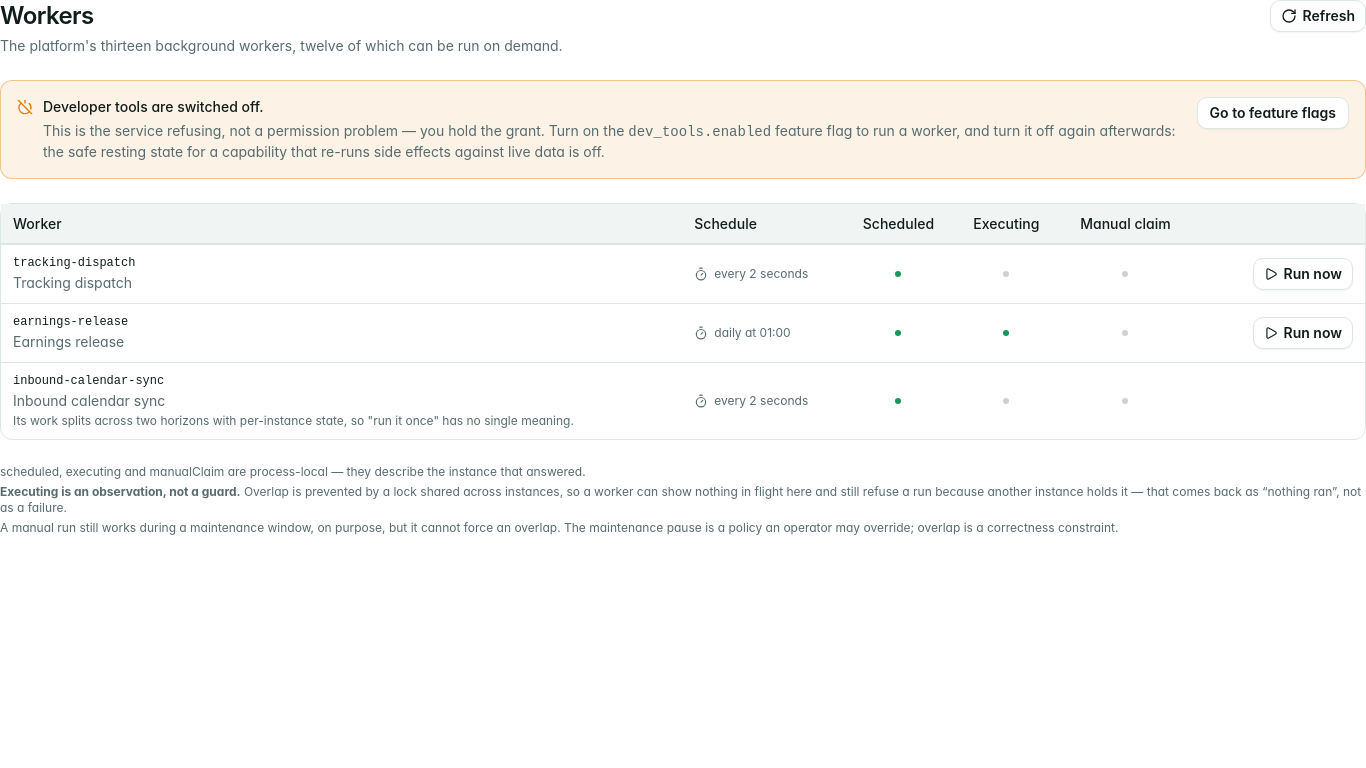
Scenario: running a worker › reports `ran: false` as a neutral outcome rather than a failure
The image size is (1366, 768).
Expected: the text "tracking-dispatch" is shown, [13,256,135,270]
Click the button "Run now" in the row of "tracking-dispatch": (1303, 274) [1253,258,1353,290]
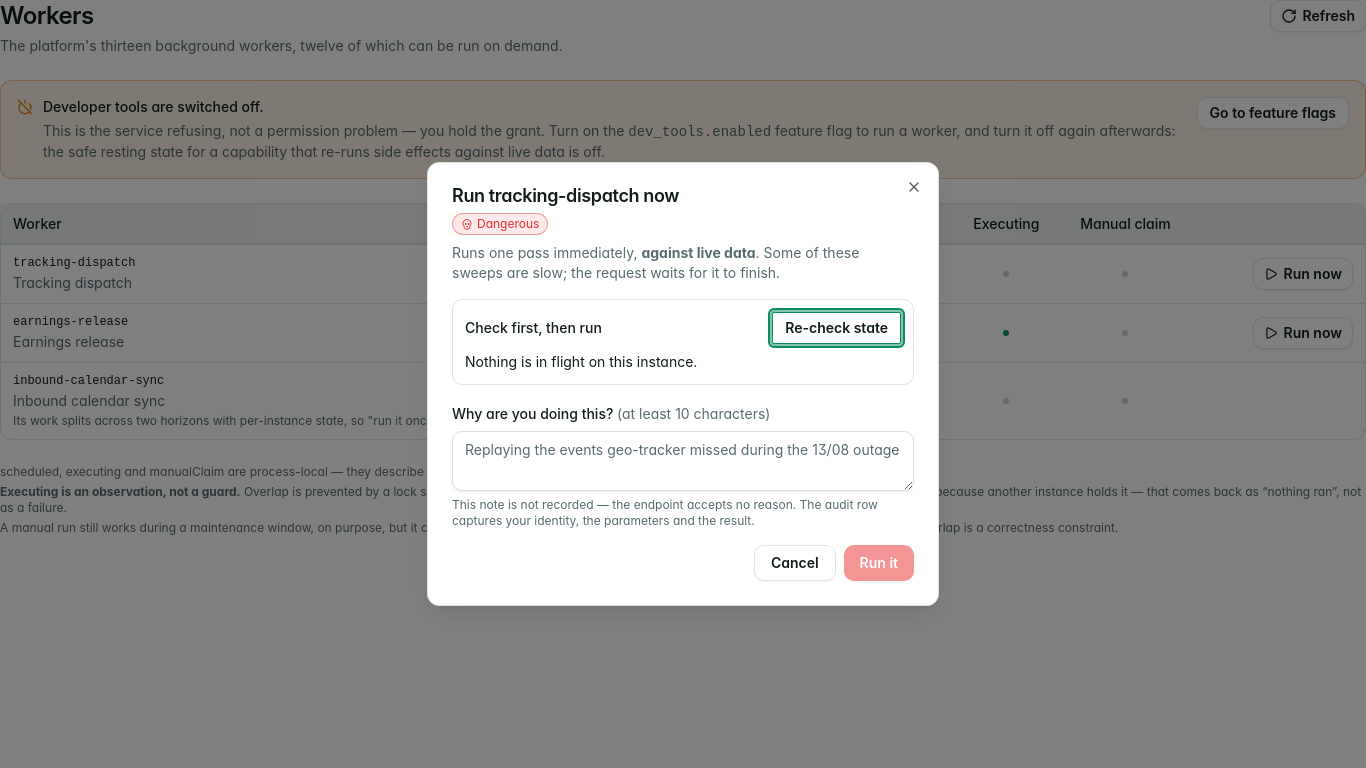
In the text box labelled "Why are you doing this? (at least 10 characters)": (683, 461) [452,431,914,491], type "Draining it"
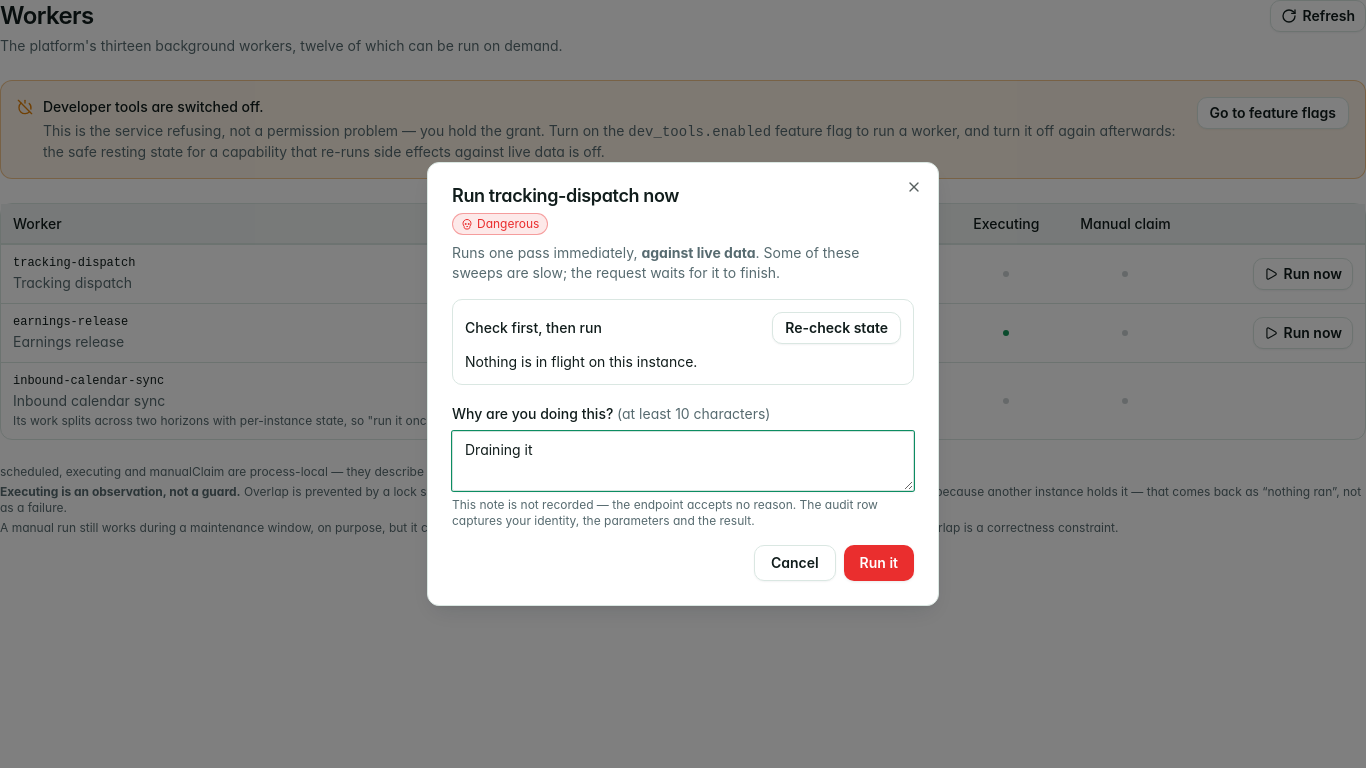
Click the button "Run it": (879, 563) [844,545,914,581]
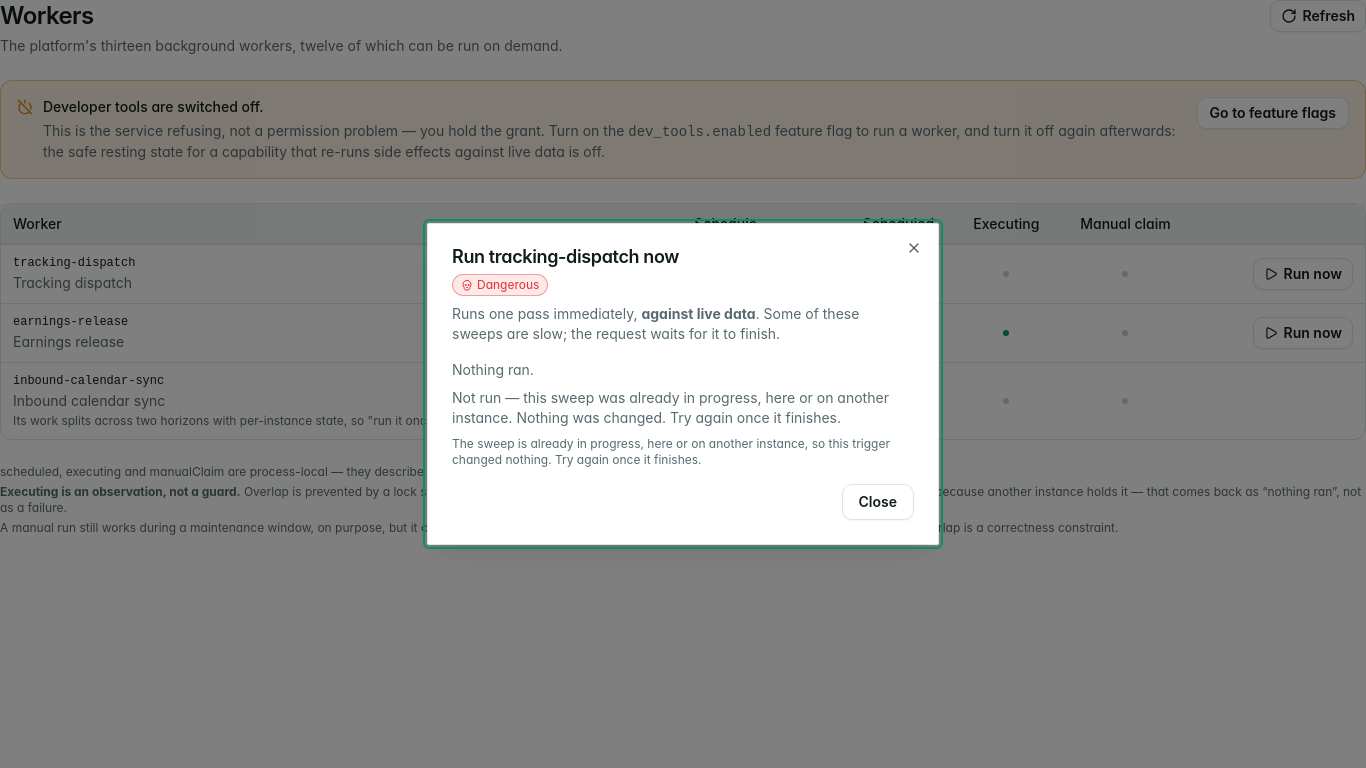
Expected: the text "Nothing ran." is shown, [452,361,534,378]
Expected: the text "already in progress" is shown, [452,389,889,426]
